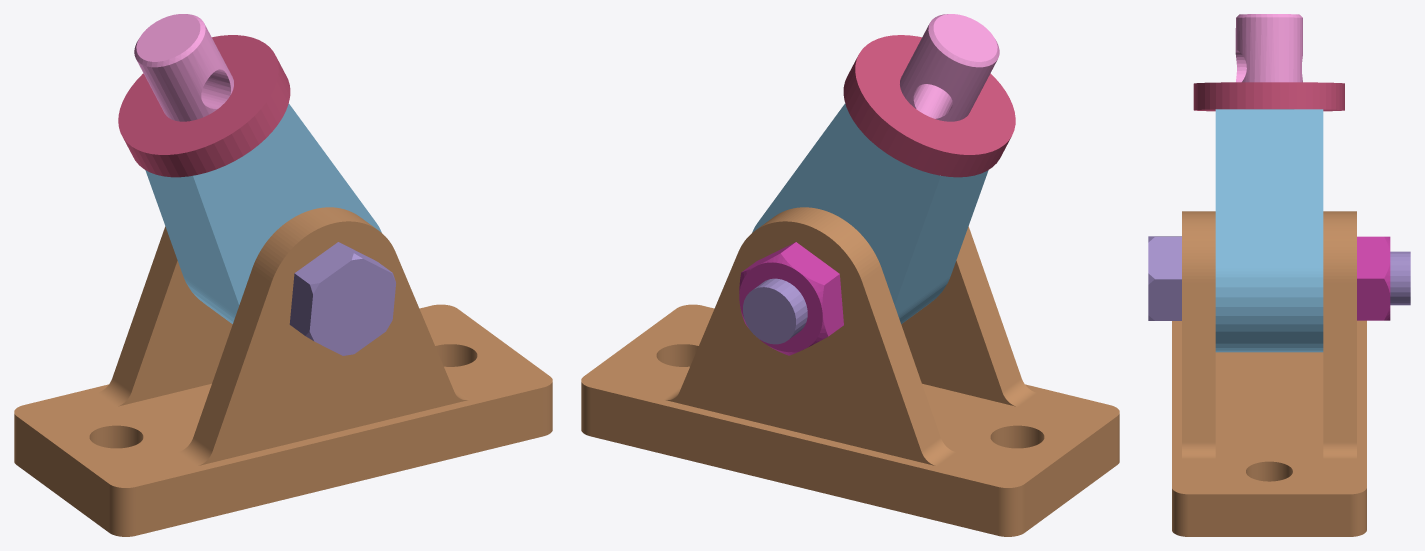
Rendered from Trial2.glb.
The picture shows the model from 3 angles, left to right: view 1: azimuth 30°, elevation 25°; view 2: azimuth 150°, elevation 25°; view 3: azimuth 270°, elevation 25°; orthographic projection. The views are drawn at different scales.
Parts seen in each view (by area): view 1: base, swivel, lock nut, Bolt, Screw; view 2: base, swivel, lock nut, Screw, Nut, Bolt; view 3: base, swivel, Screw, lock nut, Bolt, Nut.
Part boxes in pixels (x1,y1,x2,y2): base: [14, 207, 552, 536]; swivel: [145, 103, 381, 323]; lock nut: [118, 35, 290, 177]; Bolt: [289, 242, 395, 355]; Screw: [134, 14, 233, 121]; base: [581, 207, 1119, 536]; swivel: [752, 103, 988, 323]; lock nut: [843, 35, 1015, 177]; Screw: [900, 14, 999, 121]; Nut: [739, 242, 843, 355]; Bolt: [743, 278, 807, 344]; base: [1172, 211, 1366, 536]; swivel: [1215, 109, 1323, 352]; Screw: [1235, 14, 1302, 82]; lock nut: [1193, 82, 1344, 111]; Bolt: [1148, 236, 1410, 320]; Nut: [1357, 236, 1390, 320].
Size of the model in its own units: 132 by 128 by 78.
